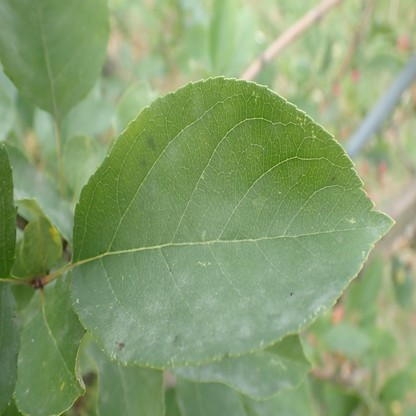powder: (76, 263, 348, 362), (141, 101, 204, 202), (175, 364, 293, 397), (1, 0, 35, 78), (2, 288, 18, 408), (22, 305, 41, 329), (18, 350, 23, 365)
